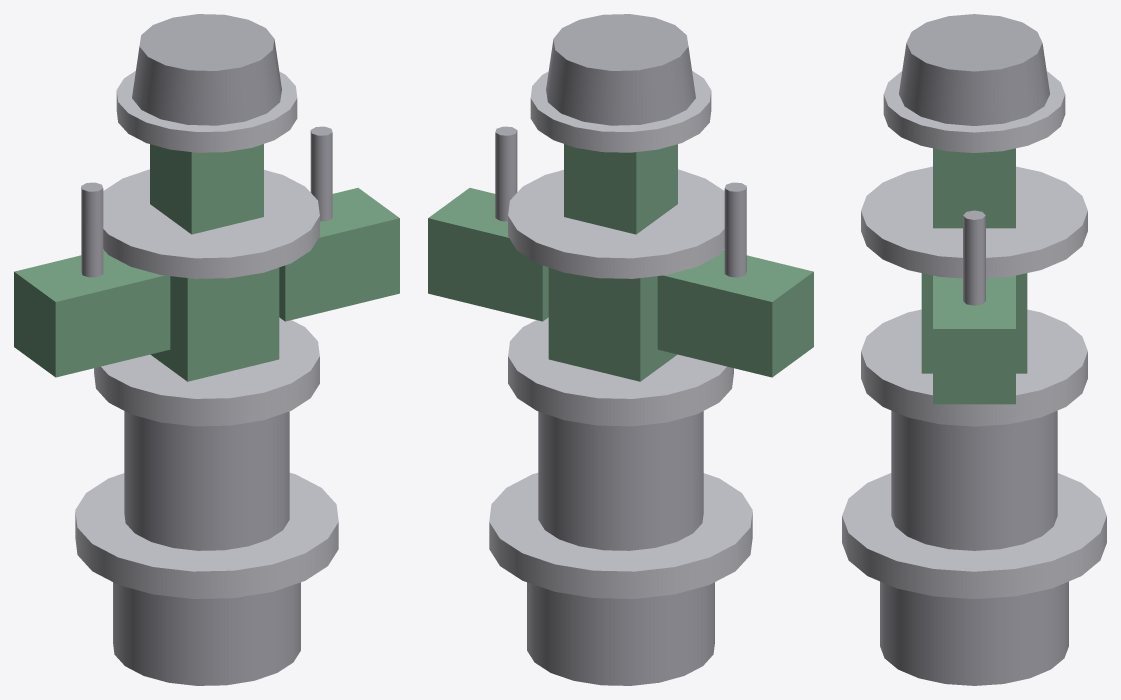
File: wellhead.glb
3 views of the same model, side by side, from view 1: azimuth 30°, elevation 25°; view 2: azimuth 150°, elevation 25°; view 3: azimuth 270°, elevation 25° (orthographic).
Visible parts, largest first — view 1: wellhead; view 2: wellhead; view 3: wellhead.
Part boxes in pixels (x1,y1,x2,y2): wellhead: (14,14,399,685); wellhead: (428,14,813,685); wellhead: (842,14,1106,685).
Size of the model in its own units: 1.05 by 1.76 by 0.7.
